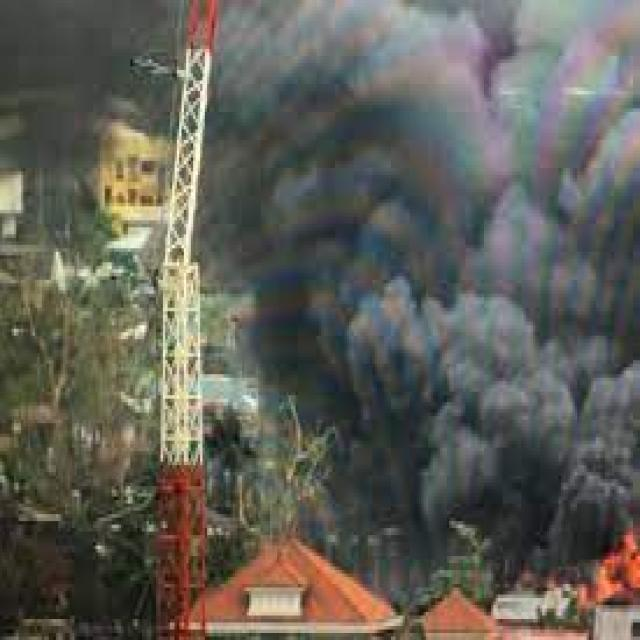Fire: (594, 538, 640, 596)
Smoke: (221, 0, 640, 516)
